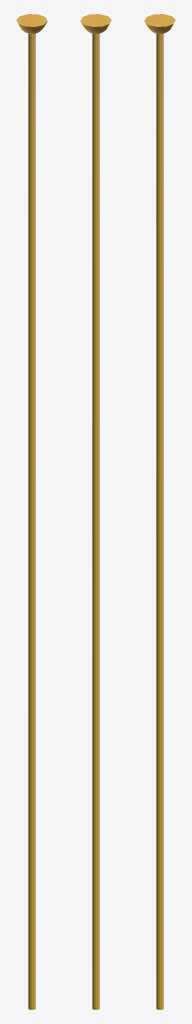
File: PartyBalloons02_String1.FBX
The picture shows the model from 3 angles, left to right: view 1: azimuth 30°, elevation 25°; view 2: azimuth 150°, elevation 25°; view 3: azimuth 330°, elevation 25°; orthographic projection.
Visible parts, largest first — view 1: PartyBalloons02_String1; view 2: PartyBalloons02_String1; view 3: PartyBalloons02_String1.
Part boxes in pixels (x1,y1,x2,y2): PartyBalloons02_String1: [16, 14, 47, 1009]; PartyBalloons02_String1: [80, 14, 111, 1009]; PartyBalloons02_String1: [144, 14, 175, 1009].
Size of what is drawn, in the model's own units: 0.029 by 1 by 0.0276.
